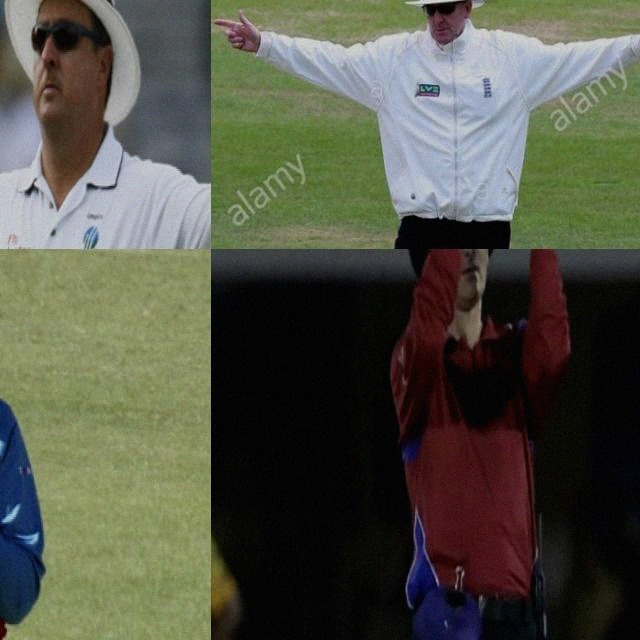Out: (0, 249, 173, 640)
Six: (377, 249, 577, 640)
Wide: (211, 0, 640, 249), (0, 0, 211, 249)
